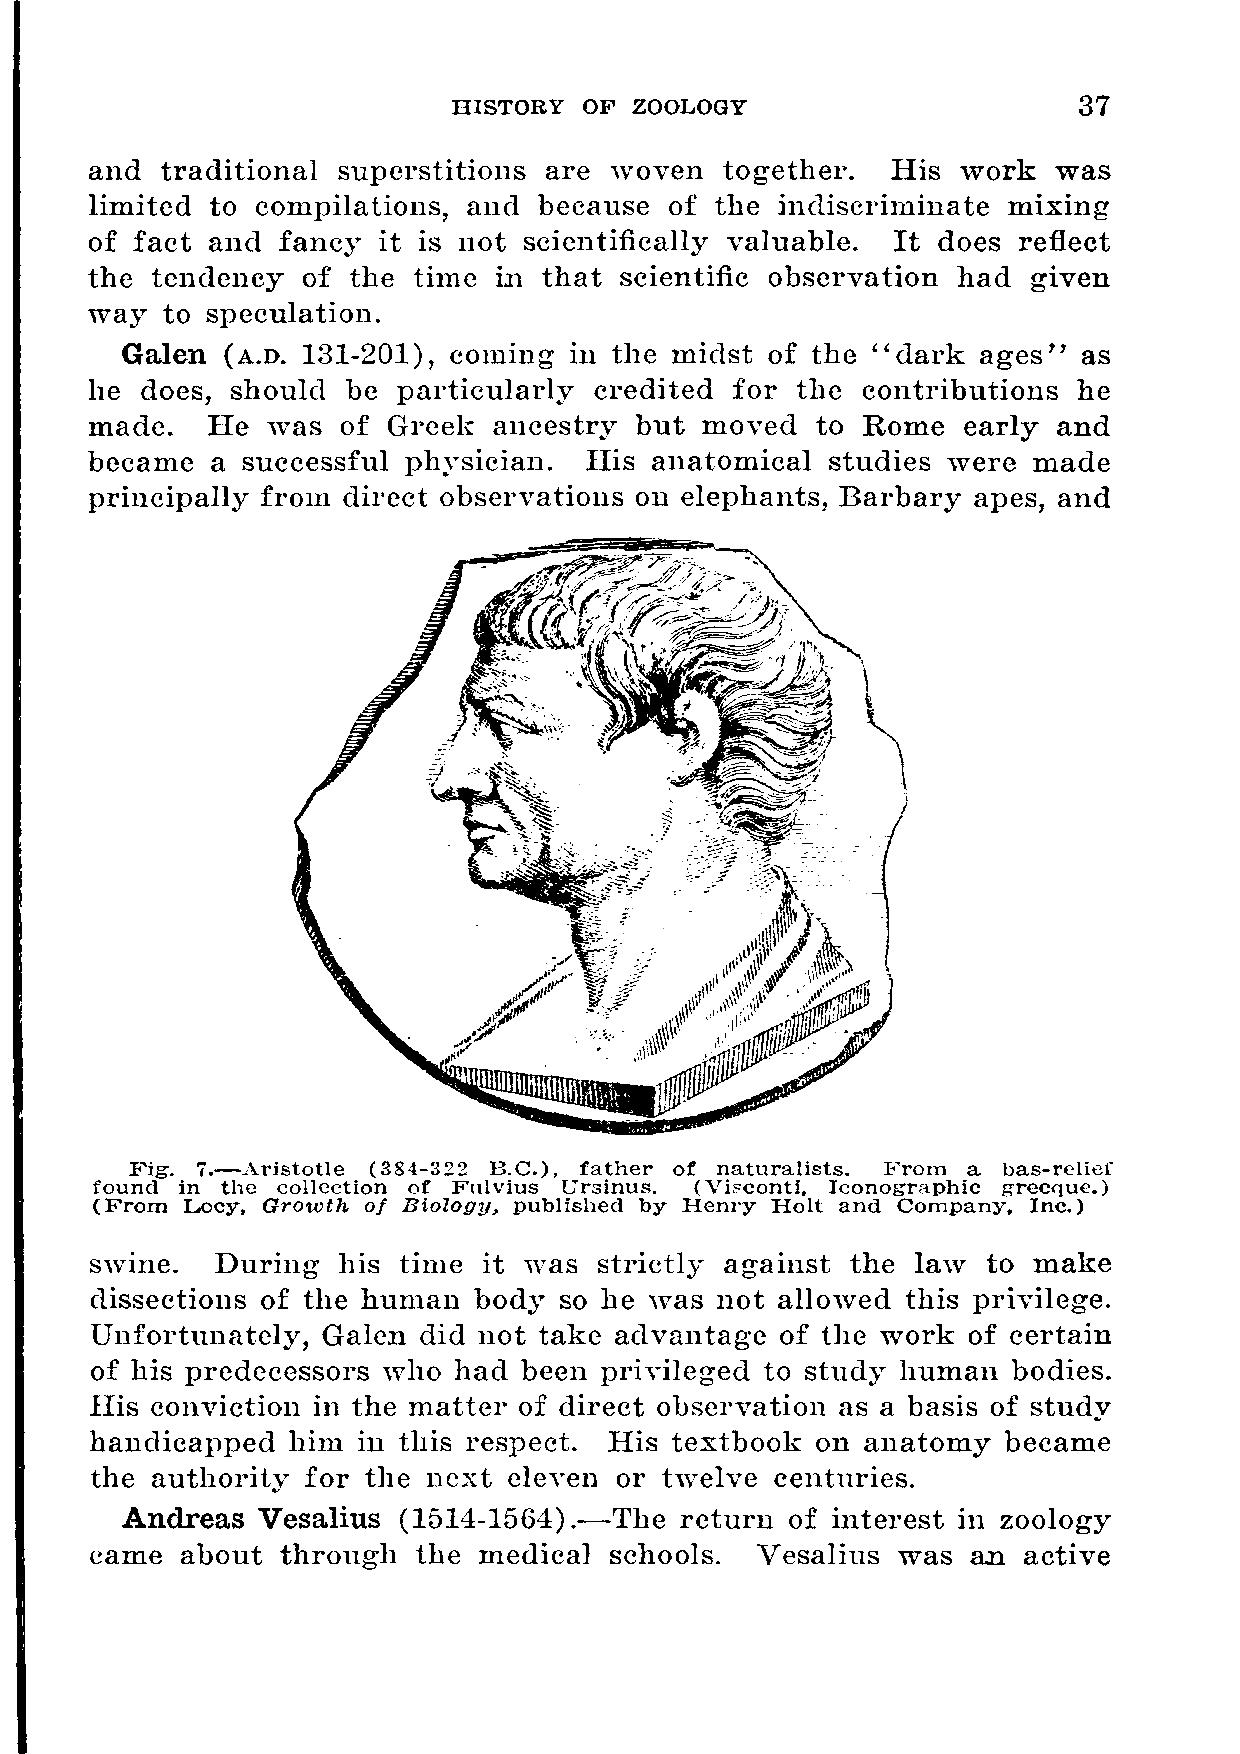content: (76, 152, 1122, 1574)
content_chapter: (446, 93, 752, 119)
content_pagenumber: (1074, 86, 1113, 123)
